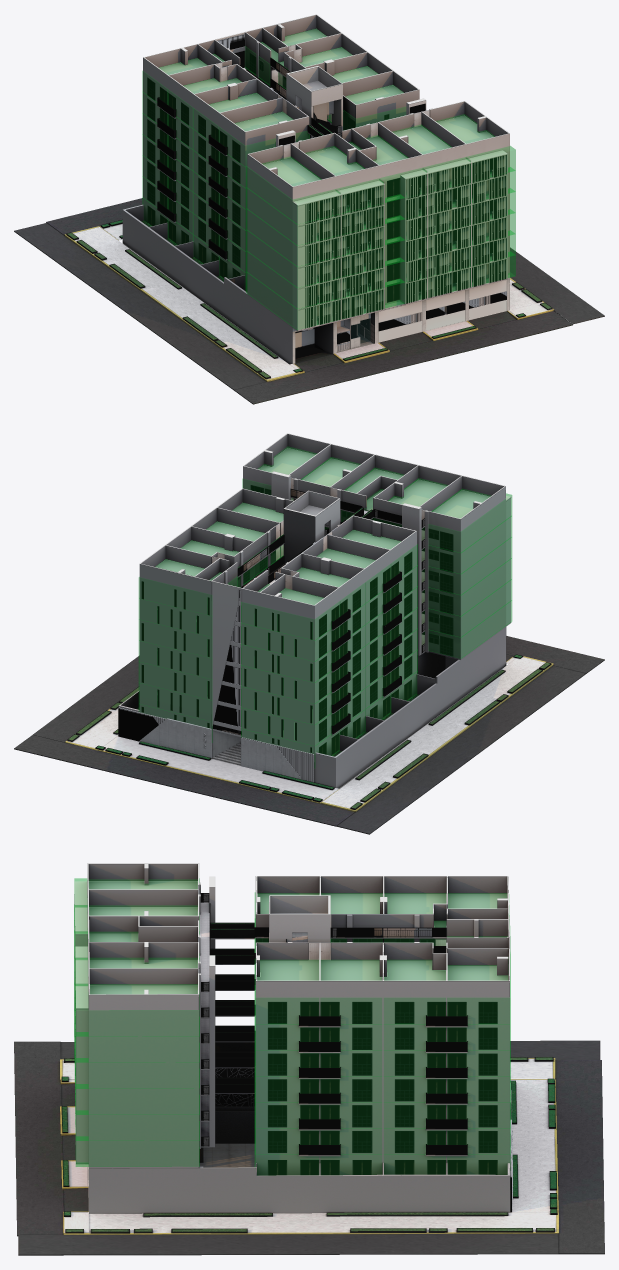
File: exteriorSanAntonioBaked.dae
The picture shows the model from 3 angles, top to bottom: view 1: azimuth 30°, elevation 25°; view 2: azimuth 150°, elevation 25°; view 3: azimuth 270°, elevation 25°; orthographic projection. The views are drawn at different scales.
Parts seen in each view (by area): view 1: rejaBlanca6, edificioC, edificioB, rejasPuerta, exterior1.2, exterior1, edificioA, contornoEdif1, pasillos, acabados1, murosVigas, SAB_0A_N006_P_0601 (+38 smaller); view 2: edificioB, edificioC, edificioA, rejasPuerta, exterior1.2, exterior1, contornoEdif1, murosVigas, exterior1.1, acabados1, rejaBlanca6, SAB_0A_N006_P_0601 (+29 smaller); view 3: edificioA, edificioC, rejasPuerta, exterior1, exterior1.1, contornoEdif1, pasillos, edificioB, murosVigas, SAB_0A_N006_P_0605, SAB_0A_N005_P_0505, SAB_0A_N004_P_0405 (+41 smaller).
Part boxes in pixels (x1,y1,x2,y2): rejaBlanca6: [217, 34, 506, 351]; edificioC: [247, 101, 509, 327]; edificioB: [143, 39, 309, 278]; rejasPuerta: [147, 44, 493, 315]; exterior1.2: [14, 223, 300, 390]; exterior1: [46, 198, 572, 404]; edificioA: [245, 14, 419, 130]; contornoEdif1: [122, 204, 374, 364]; pasillos: [157, 65, 507, 333]; acabados1: [292, 274, 509, 363]; murosVigas: [215, 32, 432, 337]; SAB_0A_N006_P_0601: [246, 156, 340, 224]; edificioB: [242, 515, 416, 782]; edificioC: [243, 433, 505, 659]; edificioA: [139, 488, 293, 728]; rejasPuerta: [141, 477, 453, 755]; exterior1.2: [321, 656, 585, 834]; exterior1: [14, 636, 604, 826]; contornoEdif1: [118, 627, 506, 788]; murosVigas: [203, 471, 428, 748]; exterior1.1: [33, 655, 139, 750]; acabados1: [138, 656, 458, 779]; rejaBlanca6: [118, 589, 314, 782]; SAB_0A_N006_P_0601: [422, 489, 511, 552]; edificioA: [255, 937, 509, 1175]; edificioC: [87, 863, 199, 1168]; rejasPuerta: [198, 885, 497, 1175]; exterior1: [14, 1041, 604, 1254]; exterior1.1: [18, 1212, 558, 1255]; contornoEdif1: [89, 1042, 510, 1213]; pasillos: [74, 881, 467, 1164]; edificioB: [255, 876, 509, 945]; murosVigas: [199, 876, 512, 1148]; SAB_0A_N006_P_0605: [76, 984, 199, 1036]; SAB_0A_N005_P_0505: [76, 1032, 199, 1062]; SAB_0A_N004_P_0405: [76, 1062, 199, 1088].
Size of what is drawn, in the model's own units: 48.52 by 29.13 by 56.49.
